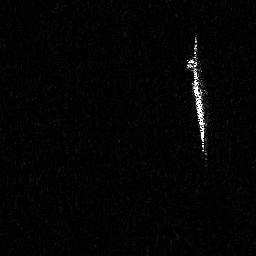ship: (184, 32, 213, 169)
